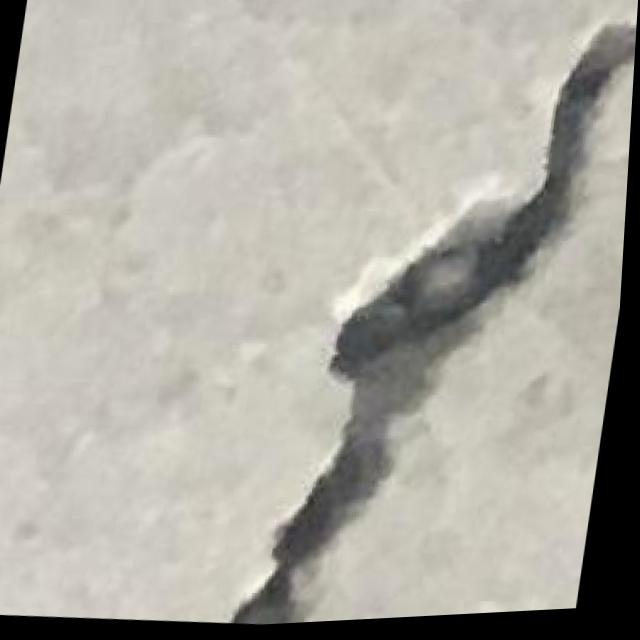Crack: (224, 0, 640, 630)
